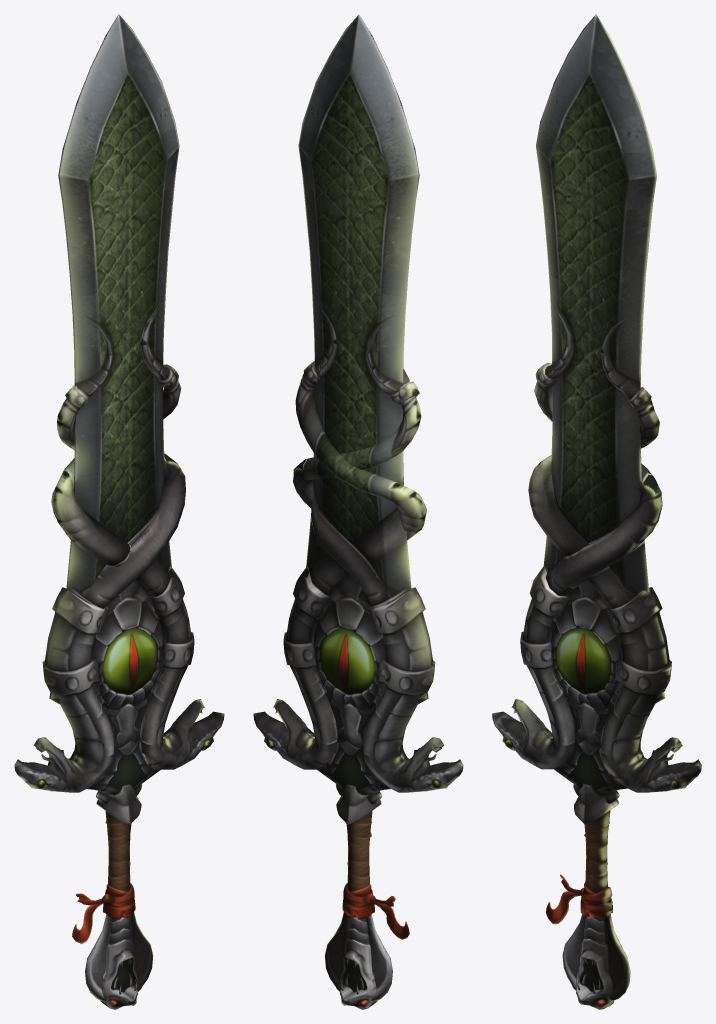
Rendered from sm_sword_212.gltf.
3 views of the same model, side by side, from view 1: azimuth 30°, elevation 25°; view 2: azimuth 150°, elevation 25°; view 3: azimuth 330°, elevation 25° (orthographic).
Visible parts, largest first — view 1: sm_sword_212; view 2: sm_sword_212; view 3: sm_sword_212.
Part boxes in pixels (<box>): sm_sword_212: <box>14,14,224,1009</box>; sm_sword_212: <box>253,14,463,1009</box>; sm_sword_212: <box>492,14,701,1009</box>.
Bounding box in the file's own units: 0.3337 × 1.5 × 0.1147.
1 material, 1 textured.
